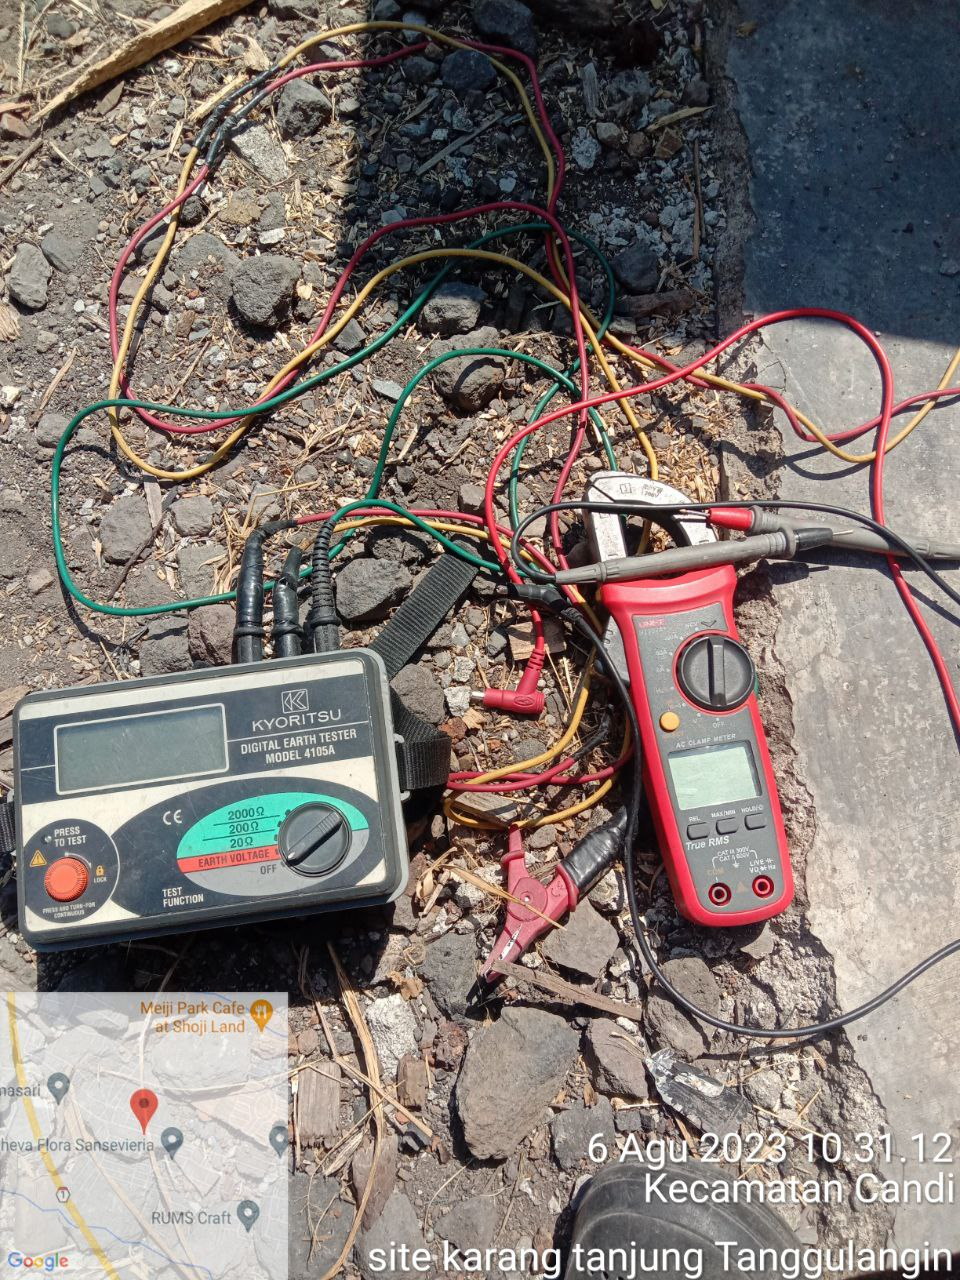EARTH_GROUNDING_TESTER: (8, 641, 419, 947)
TANG_AMPERE: (584, 468, 806, 939)
